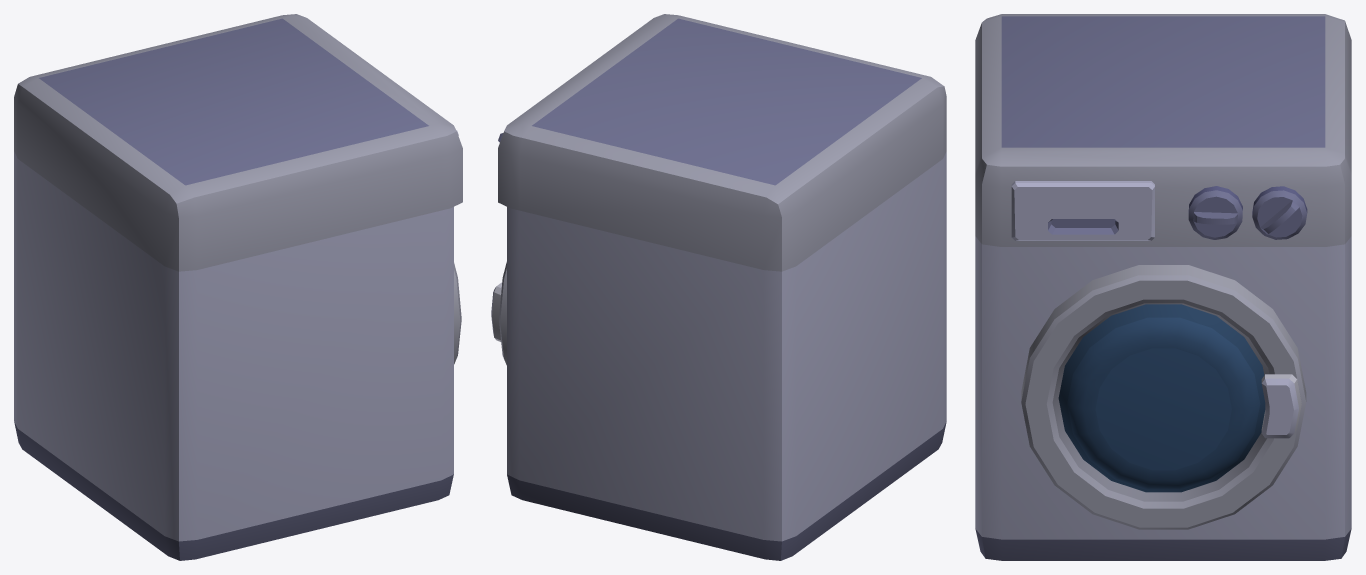
Rendered from washing-machine.glb.
3 views of the same model, side by side, from view 1: azimuth 30°, elevation 25°; view 2: azimuth 150°, elevation 25°; view 3: azimuth 270°, elevation 25° (orthographic). The views are drawn at different scales.
Parts seen in each view (by area): view 1: washing machine; view 2: washing machine; view 3: washing machine.
Part boxes in pixels (<box>): washing machine: <box>14,14,462,560</box>; washing machine: <box>491,14,946,560</box>; washing machine: <box>975,14,1351,560</box>.
Size of the model in its own units: 1.08 by 1.2 by 0.9984.
